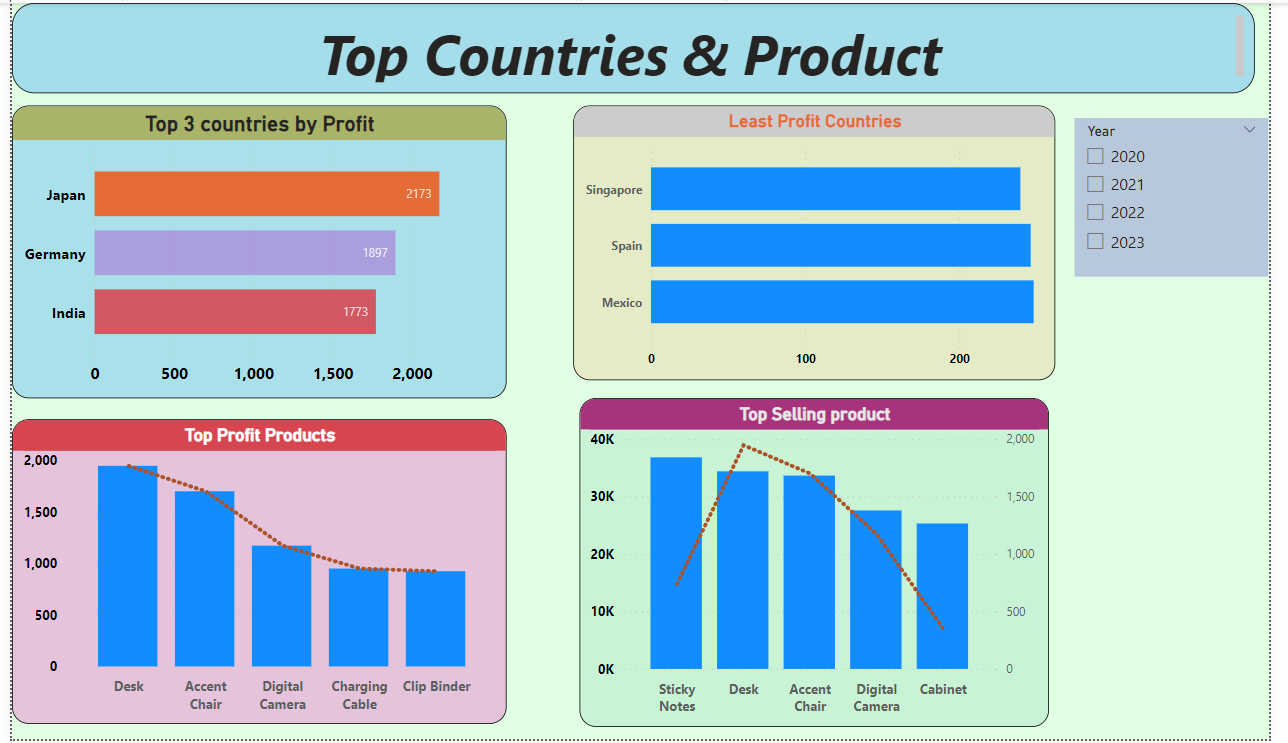

The dashboard page shown, as its layout file describes it:
{"tool":"powerbi","page":{"name":"Product info","canvas":[1280,750],"ordinal":1},"visuals":[{"type":"textbox","box":[0,0,1266.4,91.7],"z":0},{"type":"clusteredBarChart","title":"Top 3 countries by Profit","fields":{"Category":["Sales Information.Country"],"Y":["Sum(Sales Information.Profit)"]},"box":[0,103.9,503.6,298.3],"z":1000},{"type":"clusteredBarChart","title":"Least Profit Countries","fields":{"Category":["Sales Information.Country"],"Y":["Sum(Sales Information.Profit)"]},"box":[571.7,104.4,491.5,280.1],"z":2000},{"type":"lineStackedColumnComboChart","title":"Top Profit Products","fields":{"Category":["Sales Information.Product Information.Column4"],"Y":["Sum(Sales Information.Profit)"],"Y2":["Sum(Sales Information.Profit)"]},"box":[0,424,504.2,310.7],"z":3000},{"type":"lineStackedColumnComboChart","title":"Top Selling product","fields":{"Category":["Sales Information.Product Information.Column4"],"Y":["Sum(Sales Information.Sales)"],"Y2":["Sum(Sales Information.Profit)"]},"box":[578.1,402.4,478.8,334.9],"z":4000},{"type":"slicer","fields":{"Values":["Sales Information.Order_Date.Variation.Date Hierarchy.Year"]},"box":[1082.3,117.1,197.4,161.7],"z":5000}]}

Visuals, with their boxes in screenshot pixels (x1, y1, x2, y2), scaled from the page's 1280x750 canvas onto the 1288x743 screenshot:
textbox: <bbox>0, 0, 1274, 91</bbox>
"Top 3 countries by Profit" clusteredBarChart: <bbox>0, 103, 507, 398</bbox>
"Least Profit Countries" clusteredBarChart: <bbox>575, 103, 1070, 381</bbox>
"Top Profit Products" lineStackedColumnComboChart: <bbox>0, 420, 507, 728</bbox>
"Top Selling product" lineStackedColumnComboChart: <bbox>582, 399, 1064, 730</bbox>
slicer - Sales Information.Order_Date.Variation.Date Hierarchy.Year: <bbox>1089, 116, 1287, 276</bbox>
